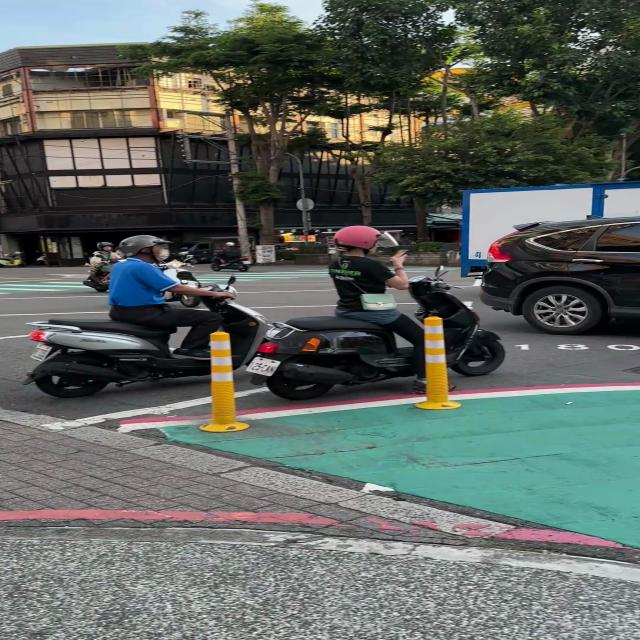Flexible_delineator_post: (199, 331, 249, 432), (415, 316, 461, 410)
car: (481, 216, 640, 334)
crosswalk: (194, 268, 329, 284), (0, 280, 90, 295)
motocycle: (24, 319, 210, 398), (247, 316, 412, 400), (408, 270, 505, 376), (205, 300, 265, 364)
trunk: (461, 181, 640, 276)
